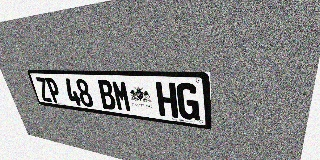4: (63, 78, 82, 106)
8: (75, 79, 94, 107)
B: (96, 80, 117, 110)
G: (176, 83, 200, 121)
H: (155, 82, 178, 118)
M: (111, 80, 132, 112)
P: (44, 77, 63, 103)
Z: (35, 77, 53, 102)
